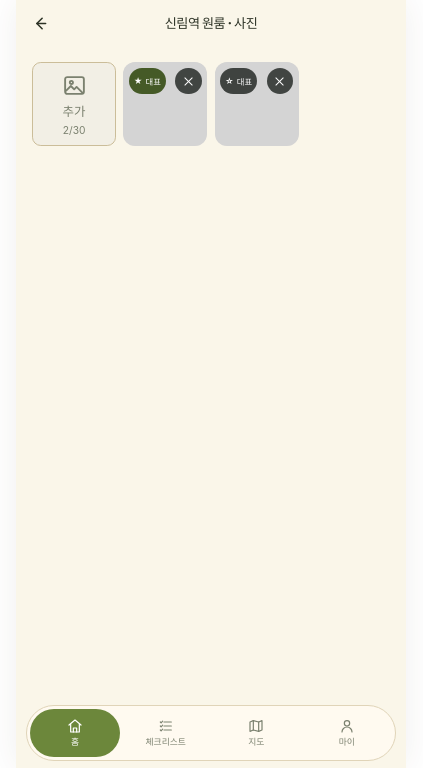
Test: FE-2 사진과 삭제 확인 › 사진 관리에서 대표 사진을 지정하고 갱신된 상태를 표시한다
Expected: the button with aria-label "업로드 순 1번째 사진 대표 사진" is disabled, [129, 68, 166, 94]
Click the button with aria-label "업로드 순 2번째 사진을 대표 사진으로 지정": point(239, 81) [220, 68, 257, 94]
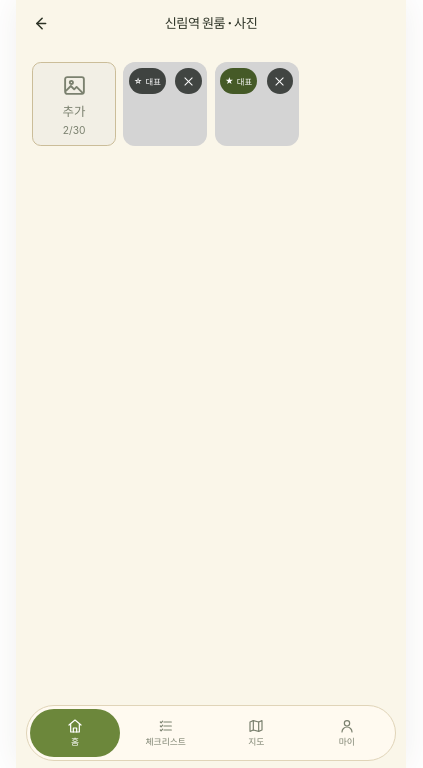
Expected: the button with aria-label "업로드 순 2번째 사진 대표 사진" is disabled, [220, 68, 257, 94]
